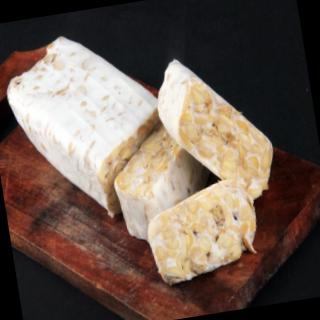Tempe: (151, 46, 282, 214), (106, 116, 219, 247), (141, 175, 266, 289)
